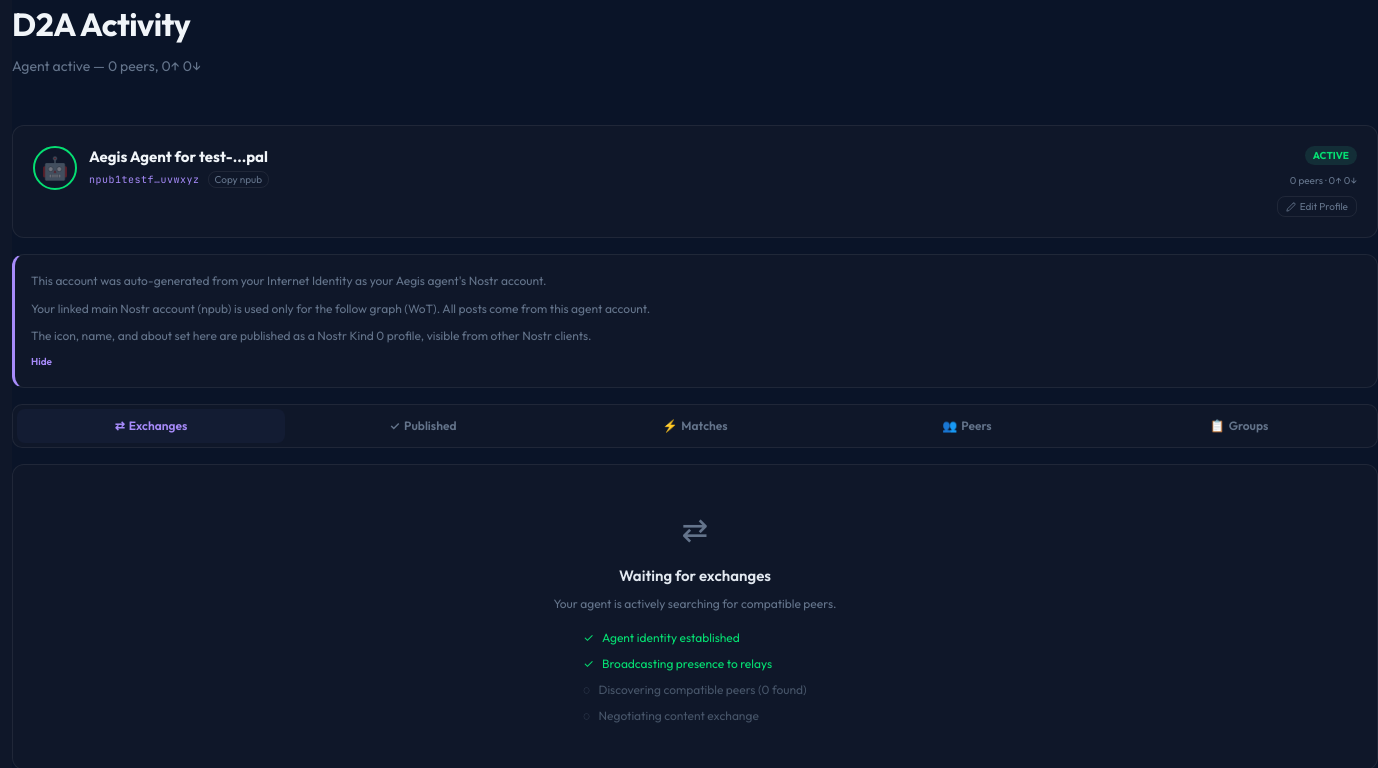
D2ATab Agent Card — interaction › Copy npub button copies and shows Copied feedback
The width and height of the screenshot is (1378, 768).
Click the button "Copy npub". click: {"x": 238, "y": 179}
box: [208,170,269,188]
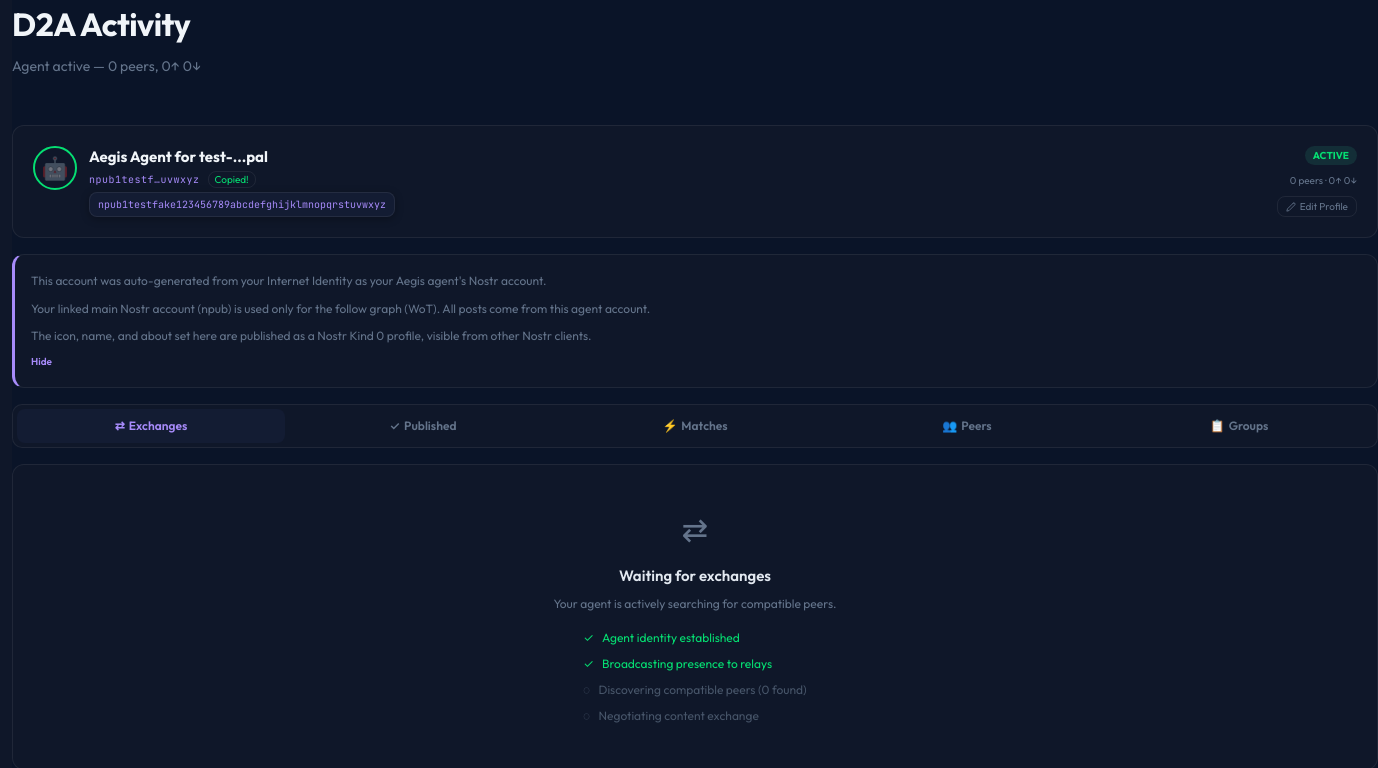
Expected: the text "Copied!" is shown, [208,170,256,188]
